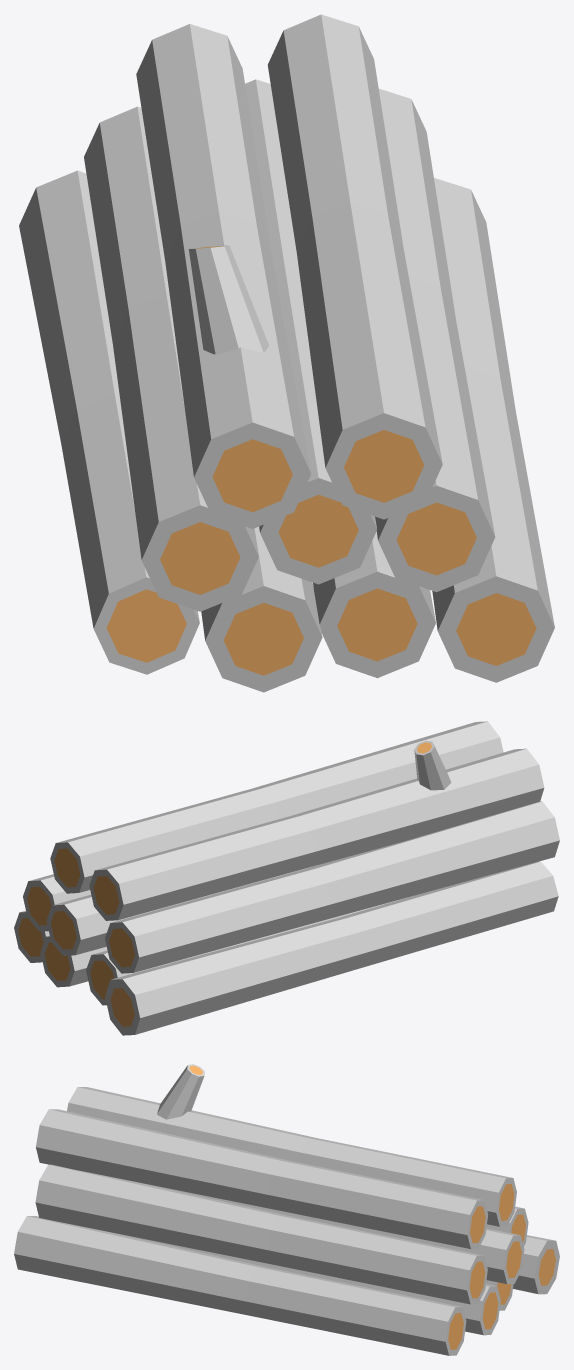
File: eucalyptus_logs.fbx
3 renders of one model, top to bottom at view 1: azimuth 30°, elevation 25°; view 2: azimuth 150°, elevation 25°; view 3: azimuth 270°, elevation 25°, orthographic. The views are drawn at different scales.
Parts seen in each view (by area): view 1: Cylinder.025; view 2: Cylinder.025; view 3: Cylinder.025.
Part boxes in pixels (x1,y1,x2,y2): Cylinder.025: (19, 14, 554, 692); Cylinder.025: (14, 721, 559, 1035); Cylinder.025: (14, 1064, 559, 1355).
Size of the model in its own units: 217 by 101 by 289.
